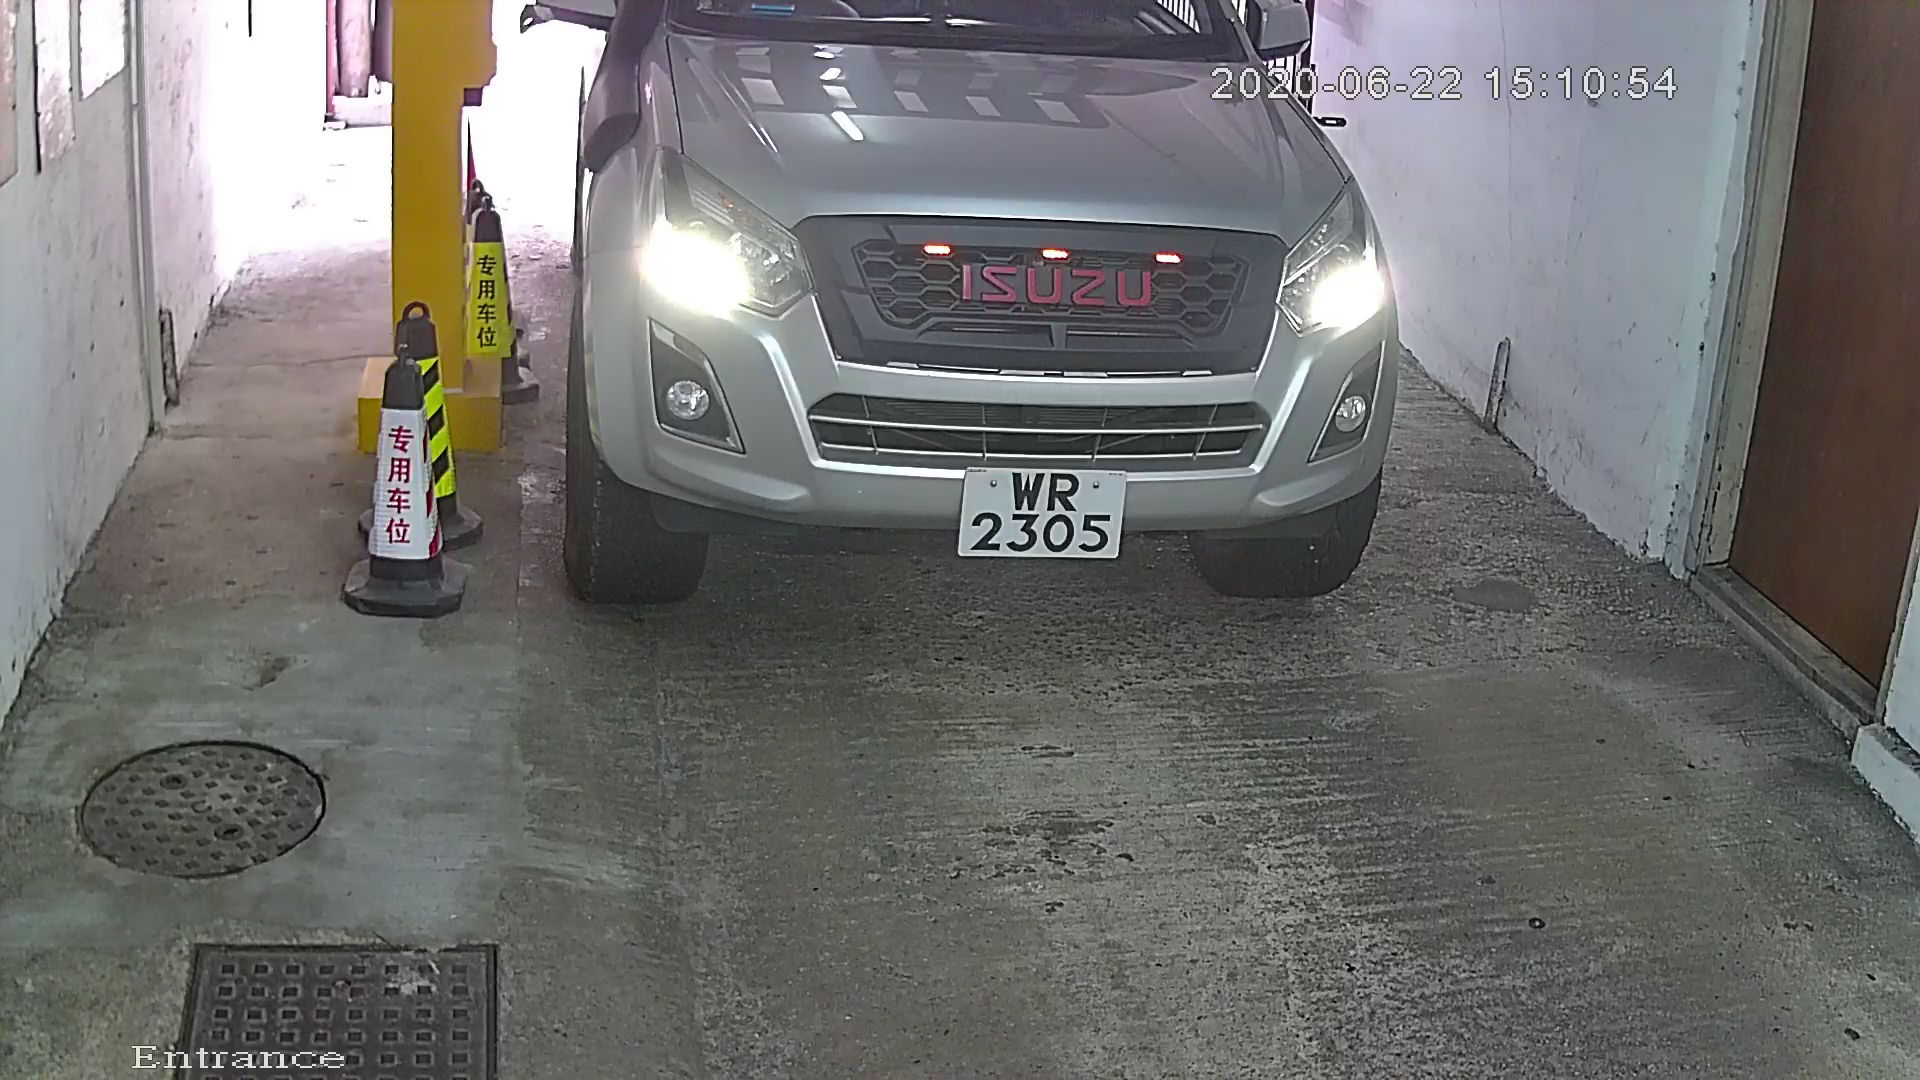privatecar: (529, 3, 1486, 655)
